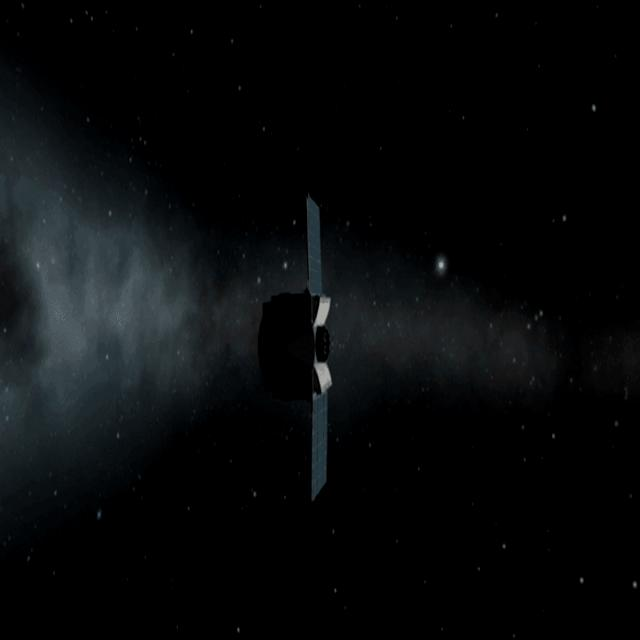medium_debris: (242, 134, 354, 614)
